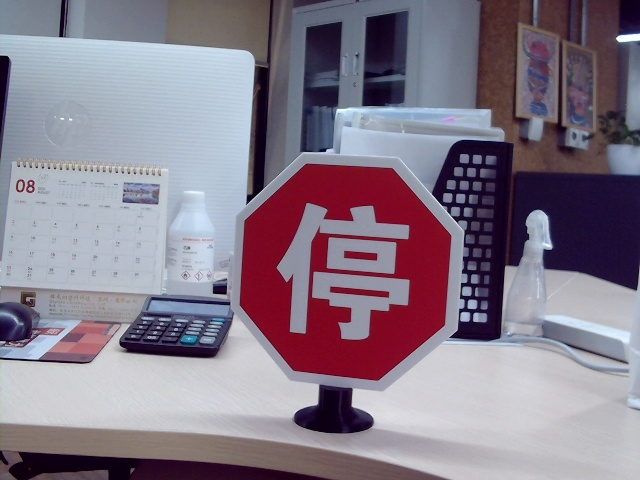stop: (275, 193, 412, 338)
